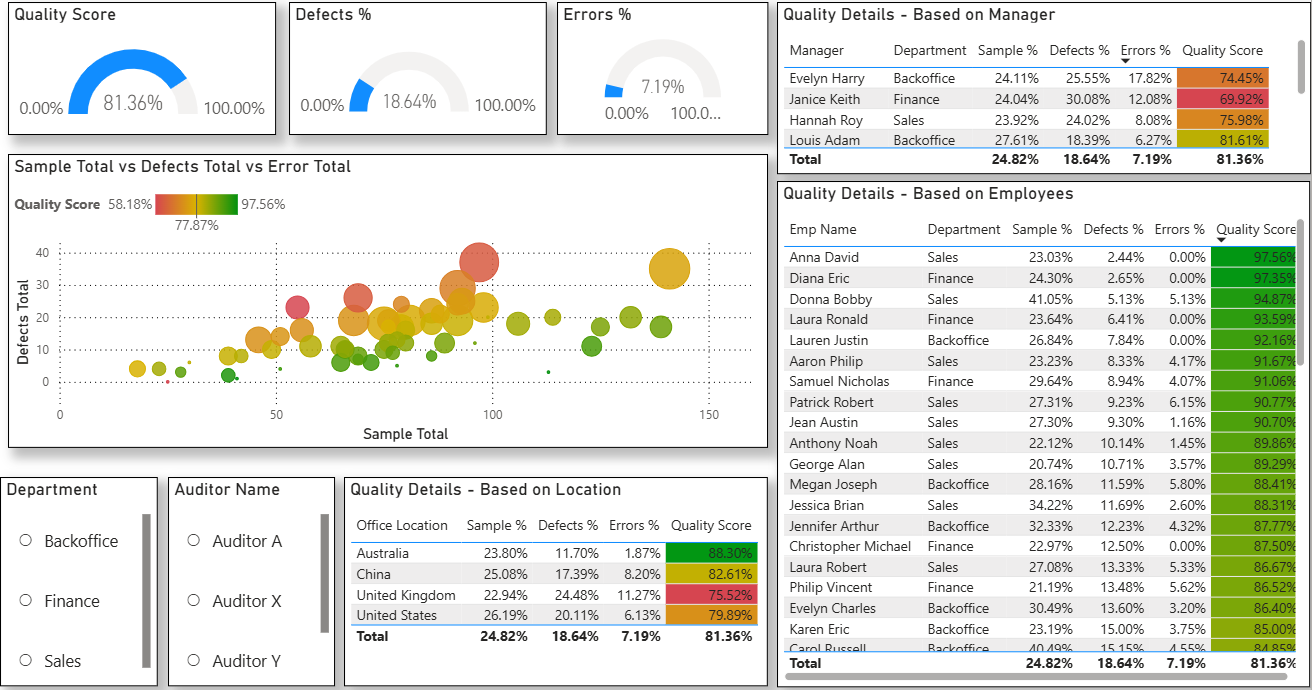

This screenshot's page, from the dashboard's own definition file:
{"tool":"powerbi","page":{"name":"Details","canvas":[1280,720],"ordinal":1},"visuals":[{"type":"advancedSlicerVisual","fields":{"Values":["Employee Details.Department"]},"box":[7.8,466.9,152.7,203.3],"z":0},{"type":"gauge","fields":{"Y":["All_Measures.Quality Score"]},"box":[15.6,5.8,259.7,129.4],"z":1000},{"type":"advancedSlicerVisual","fields":{"Values":["Auditor Details.Auditor Name"]},"box":[170.2,466.9,162.4,203.3],"z":2000},{"type":"gauge","fields":{"Y":["All_Measures.Defects %"]},"box":[287.9,5.8,250,129.4],"z":3000},{"type":"gauge","fields":{"Y":["All_Measures.Errors %"]},"box":[547.6,5.8,205.2,129.4],"z":4000},{"type":"scatterChart","title":"Sample Total vs Defects Total vs Error Total","fields":{"Category":["Employee Details.Emp Name"],"X":["All_Measures.Sample Total"],"Size":["All_Measures.Errors Total"],"Y":["All_Measures.Defects Total"]},"box":[15.6,153.7,737.3,285],"z":5000},{"type":"tableEx","title":"Quality Details - Based on Location","fields":{"Values":["Employee Details.Office Location","All_Measures.Sample %","All_Measures.Defects %","All_Measures.Errors %","All_Measures.Quality Score"]},"box":[341.4,466.9,411.4,203.3],"z":5001},{"type":"tableEx","title":"Quality Details - Based on Manager","fields":{"Values":["Employee Details.Manager","Employee Details.Department","All_Measures.Sample %","All_Measures.Defects %","All_Measures.Errors %","All_Measures.Quality Score"]},"box":[761.6,5.8,501.9,166.3],"z":5002},{"type":"tableEx","title":"Quality Details - Based on Employees","fields":{"Values":["Employee Details.Emp Name","Employee Details.Department","All_Measures.Sample %","All_Measures.Defects %","All_Measures.Errors %","All_Measures.Quality Score"]},"box":[761.6,179,518.4,491.2],"z":5003}]}

Visuals, with their boxes on the page's 1280x720 design canvas (x1, y1, x2, y2). These are canvas units, not pixel positions in the 1312x690 screenshot, which may show the page scaled, cropped or inside an application window:
advancedSlicerVisual - Employee Details.Department: <bbox>8, 467, 160, 670</bbox>
gauge - All_Measures.Quality Score: <bbox>16, 6, 275, 135</bbox>
advancedSlicerVisual - Auditor Details.Auditor Name: <bbox>170, 467, 333, 670</bbox>
gauge - All_Measures.Defects %: <bbox>288, 6, 538, 135</bbox>
gauge - All_Measures.Errors %: <bbox>548, 6, 753, 135</bbox>
"Sample Total vs Defects Total vs Error Total" scatterChart: <bbox>16, 154, 753, 439</bbox>
"Quality Details - Based on Location" tableEx: <bbox>341, 467, 753, 670</bbox>
"Quality Details - Based on Manager" tableEx: <bbox>762, 6, 1264, 172</bbox>
"Quality Details - Based on Employees" tableEx: <bbox>762, 179, 1280, 670</bbox>
